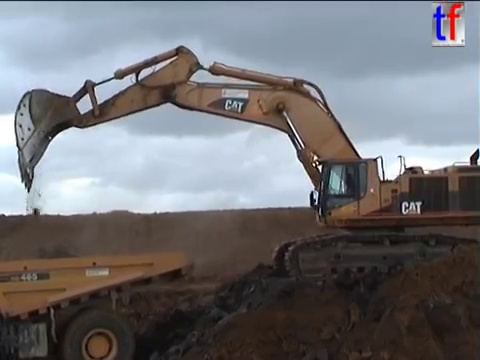excavator: (10, 42, 479, 293)
truck: (1, 247, 195, 360)
